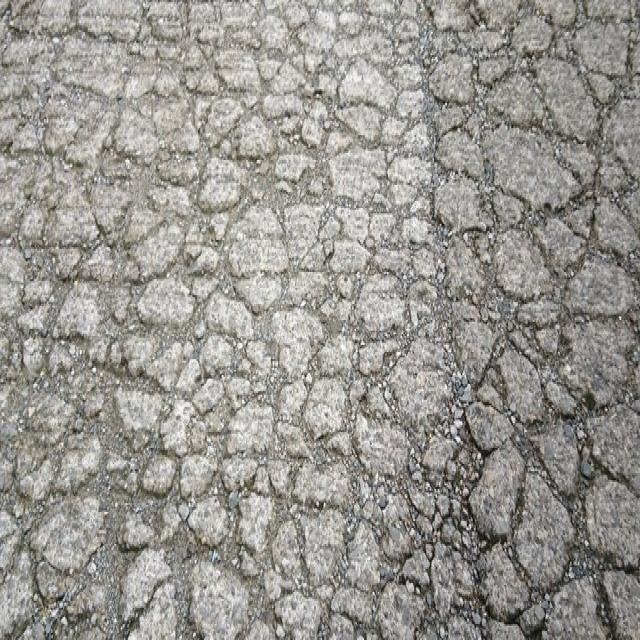Drain Hole: (11, 1, 640, 590)
